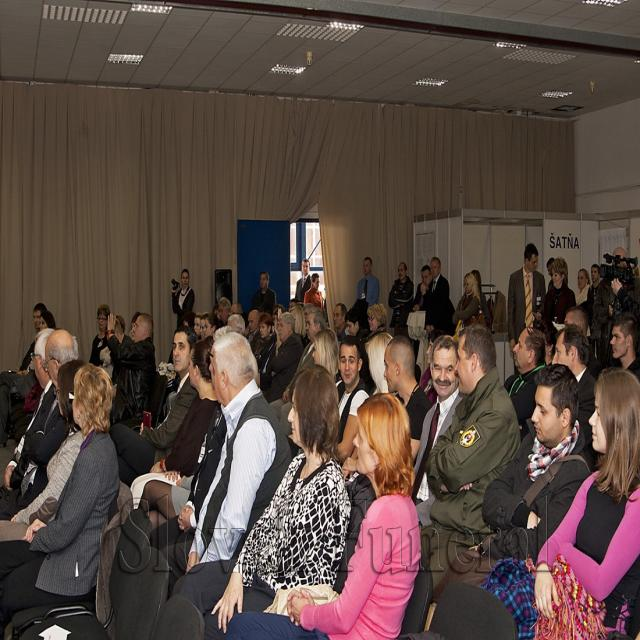body: (223, 390, 423, 640), (478, 367, 640, 639), (203, 361, 354, 640), (157, 332, 293, 620), (430, 361, 592, 600), (0, 358, 123, 639), (417, 320, 523, 594), (0, 357, 88, 543), (0, 327, 81, 522), (129, 333, 218, 510), (0, 327, 81, 520), (108, 323, 199, 481), (340, 334, 433, 483), (409, 333, 468, 508), (340, 330, 395, 486), (0, 307, 57, 449), (268, 306, 327, 436), (550, 322, 599, 466), (105, 311, 158, 429), (592, 245, 640, 368), (506, 241, 548, 376), (169, 298, 242, 375), (332, 334, 371, 468), (597, 249, 640, 358), (94, 307, 146, 385), (262, 311, 305, 405), (245, 300, 323, 343), (407, 264, 434, 386), (540, 256, 577, 339), (5, 381, 42, 452), (387, 260, 415, 345), (424, 255, 451, 343), (17, 300, 48, 371), (608, 312, 640, 380), (420, 327, 446, 407), (452, 270, 482, 334), (586, 262, 602, 362), (311, 326, 340, 380), (574, 267, 594, 345), (171, 267, 196, 329), (88, 303, 111, 369), (470, 268, 495, 325), (356, 255, 381, 307), (252, 270, 278, 317), (363, 301, 388, 344), (332, 302, 351, 348), (294, 257, 312, 304), (304, 272, 324, 310), (343, 308, 364, 343), (332, 302, 350, 342), (544, 255, 556, 306)
